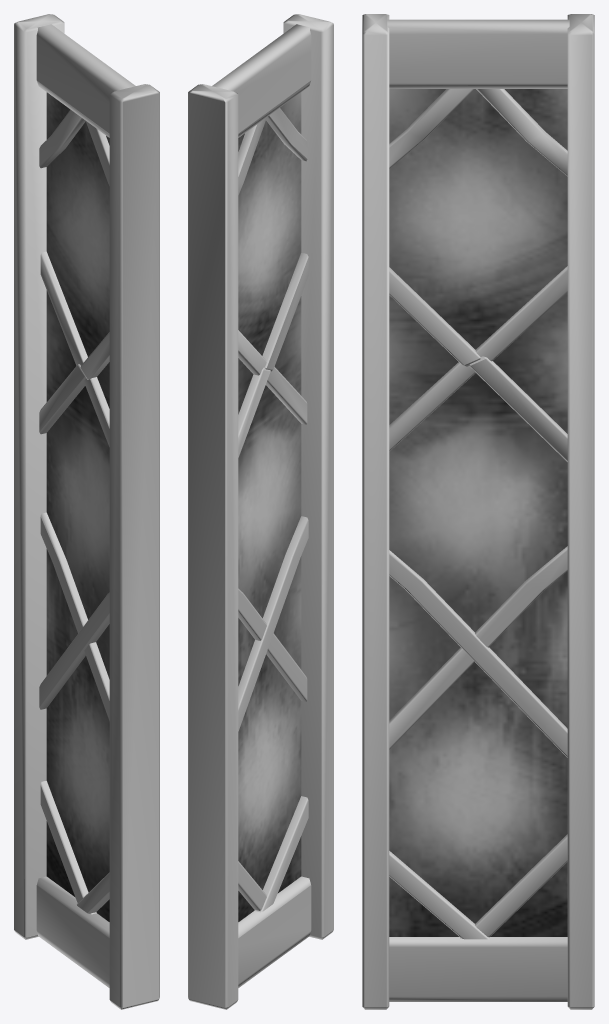
File: SM_window_latice_slit.fbx
The picture shows the model from 3 angles, left to right: view 1: azimuth 30°, elevation 25°; view 2: azimuth 150°, elevation 25°; view 3: azimuth 270°, elevation 25°; orthographic projection. The views are drawn at different scales.
Parts seen in each view (by area): view 1: SM_window_latice_slit; view 2: SM_window_latice_slit; view 3: SM_window_latice_slit.
Part boxes in pixels (x1,y1,x2,y2): SM_window_latice_slit: (14, 14, 159, 1009); SM_window_latice_slit: (188, 14, 333, 1009); SM_window_latice_slit: (362, 14, 594, 1009).
Size of the model in its own units: 5.68 by 26.44 by 123.
2 materials, 1 textured.
